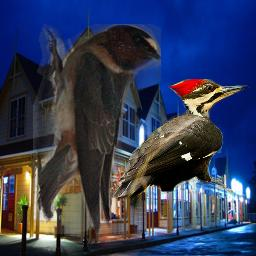Swallow: (33, 24, 161, 234)
Woodpecker: (113, 79, 251, 200)
